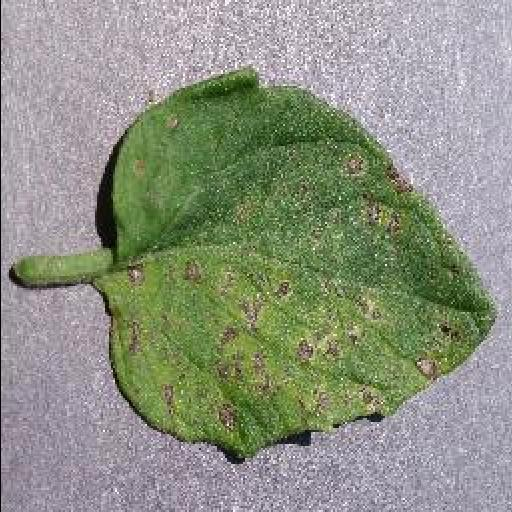disease_tomato: (102, 62, 496, 462)
